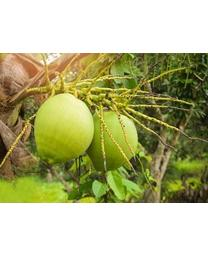coconut: (31, 92, 93, 165), (91, 108, 138, 169)
